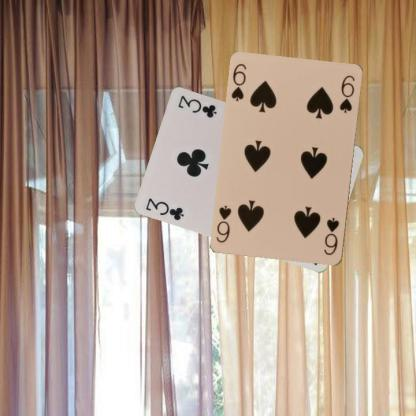3c: (143, 195, 186, 221)
6s: (229, 61, 248, 103), (322, 215, 340, 256)
